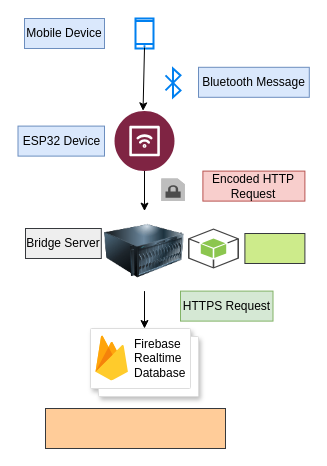
Some shapes in this 327 by 466 pixel diagram are drawn without their labels. Each missing label, with the centre of its shape:
"Node.js" belongs at [274,248].
"System Archtecture" belongs at [135,428].
